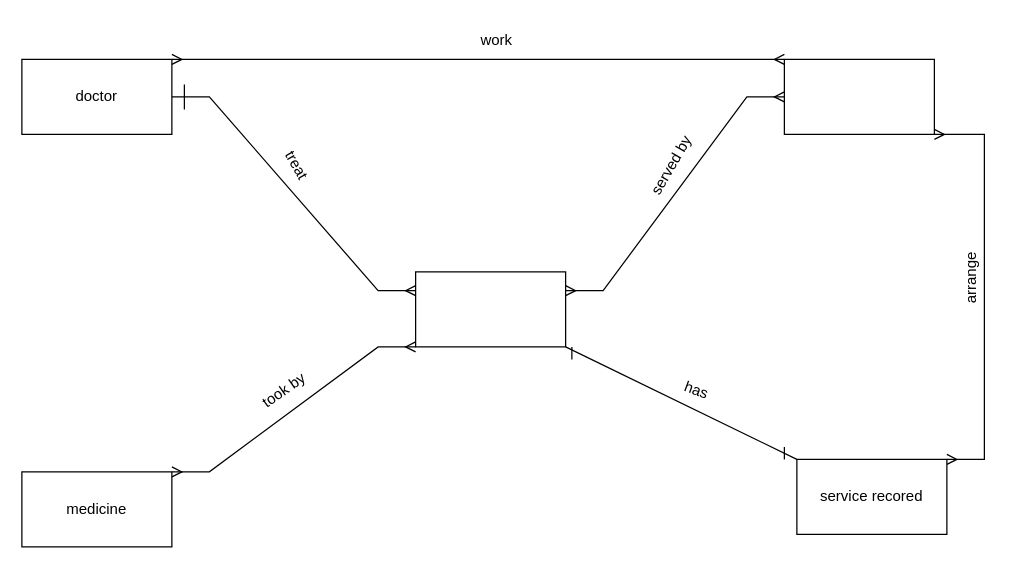
Image size: 1018x569. Some labels were removed from this diagram. The centre of each missing label's shape, as x and y in pixels:
"nurse" belongs at (858,96).
"patient" belongs at (490,309).
